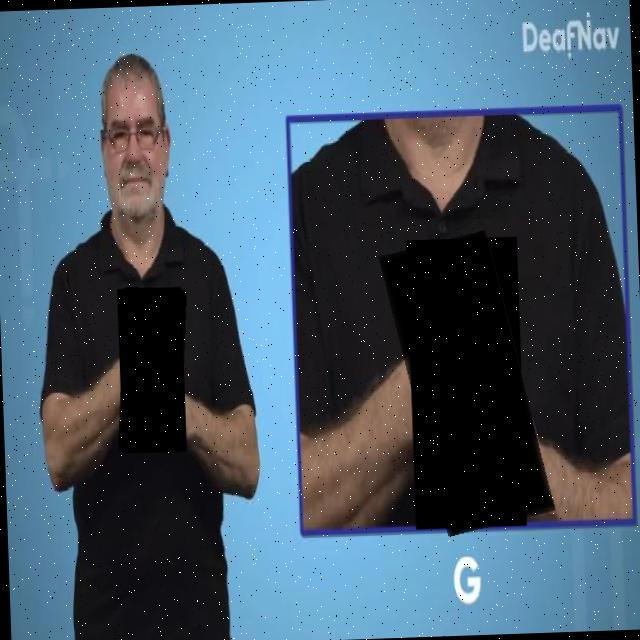G: (394, 233, 543, 535), (116, 287, 191, 455)
